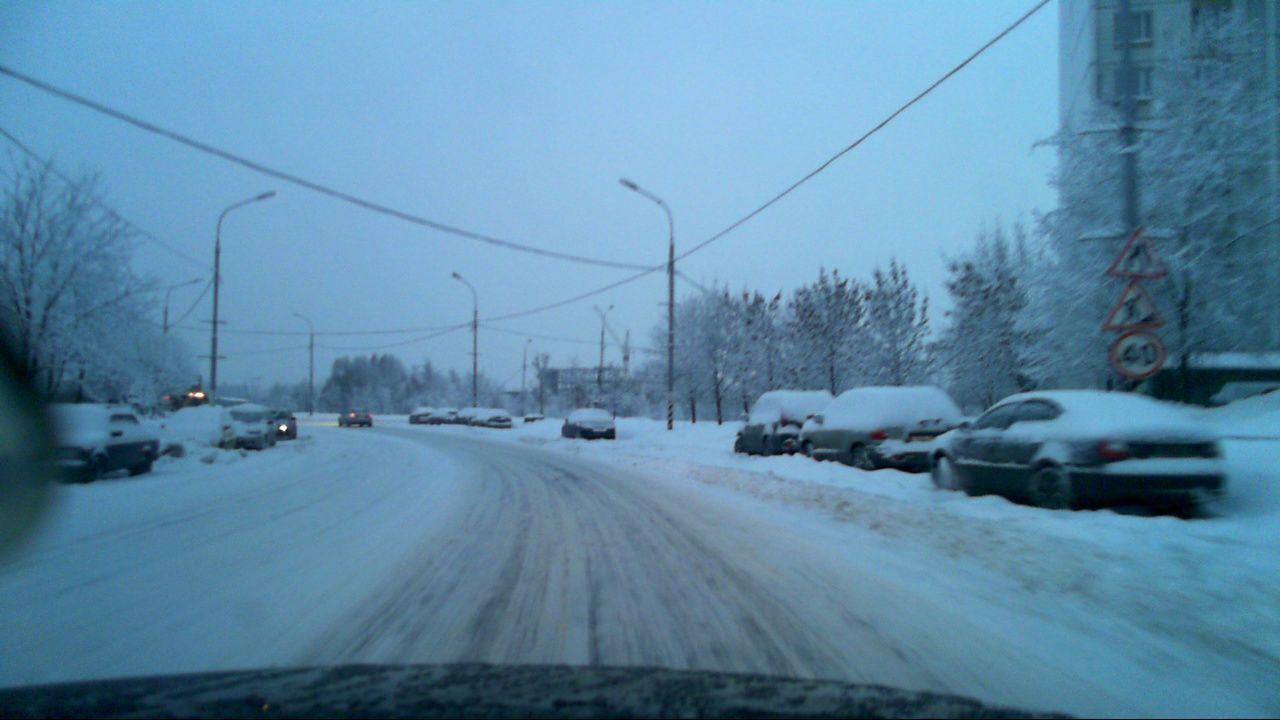speed_warning_40: (1108, 327, 1167, 378)
